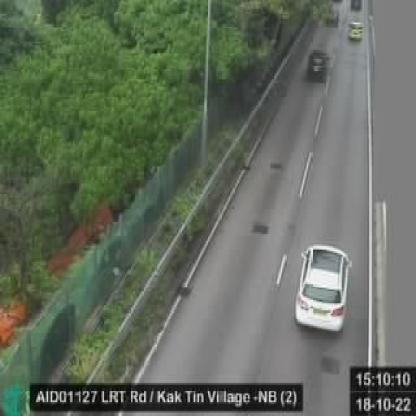Car: (293, 241, 353, 335), (302, 47, 330, 83), (348, 20, 365, 44)
